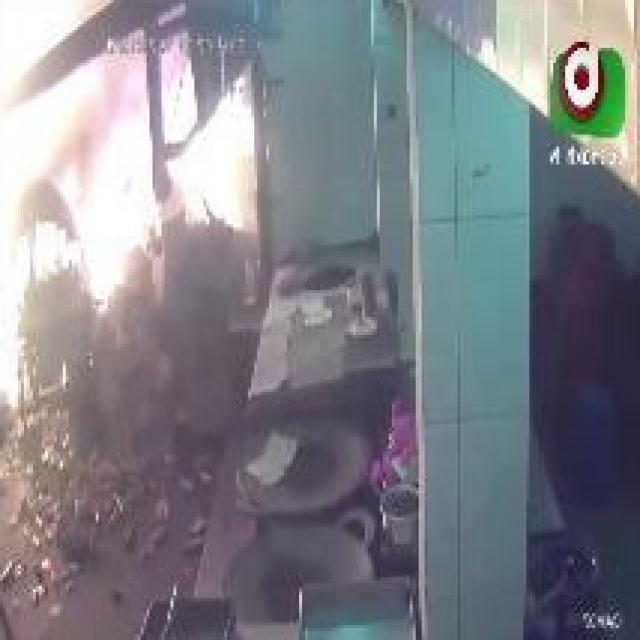smoke: (68, 78, 260, 332), (0, 0, 78, 422)
